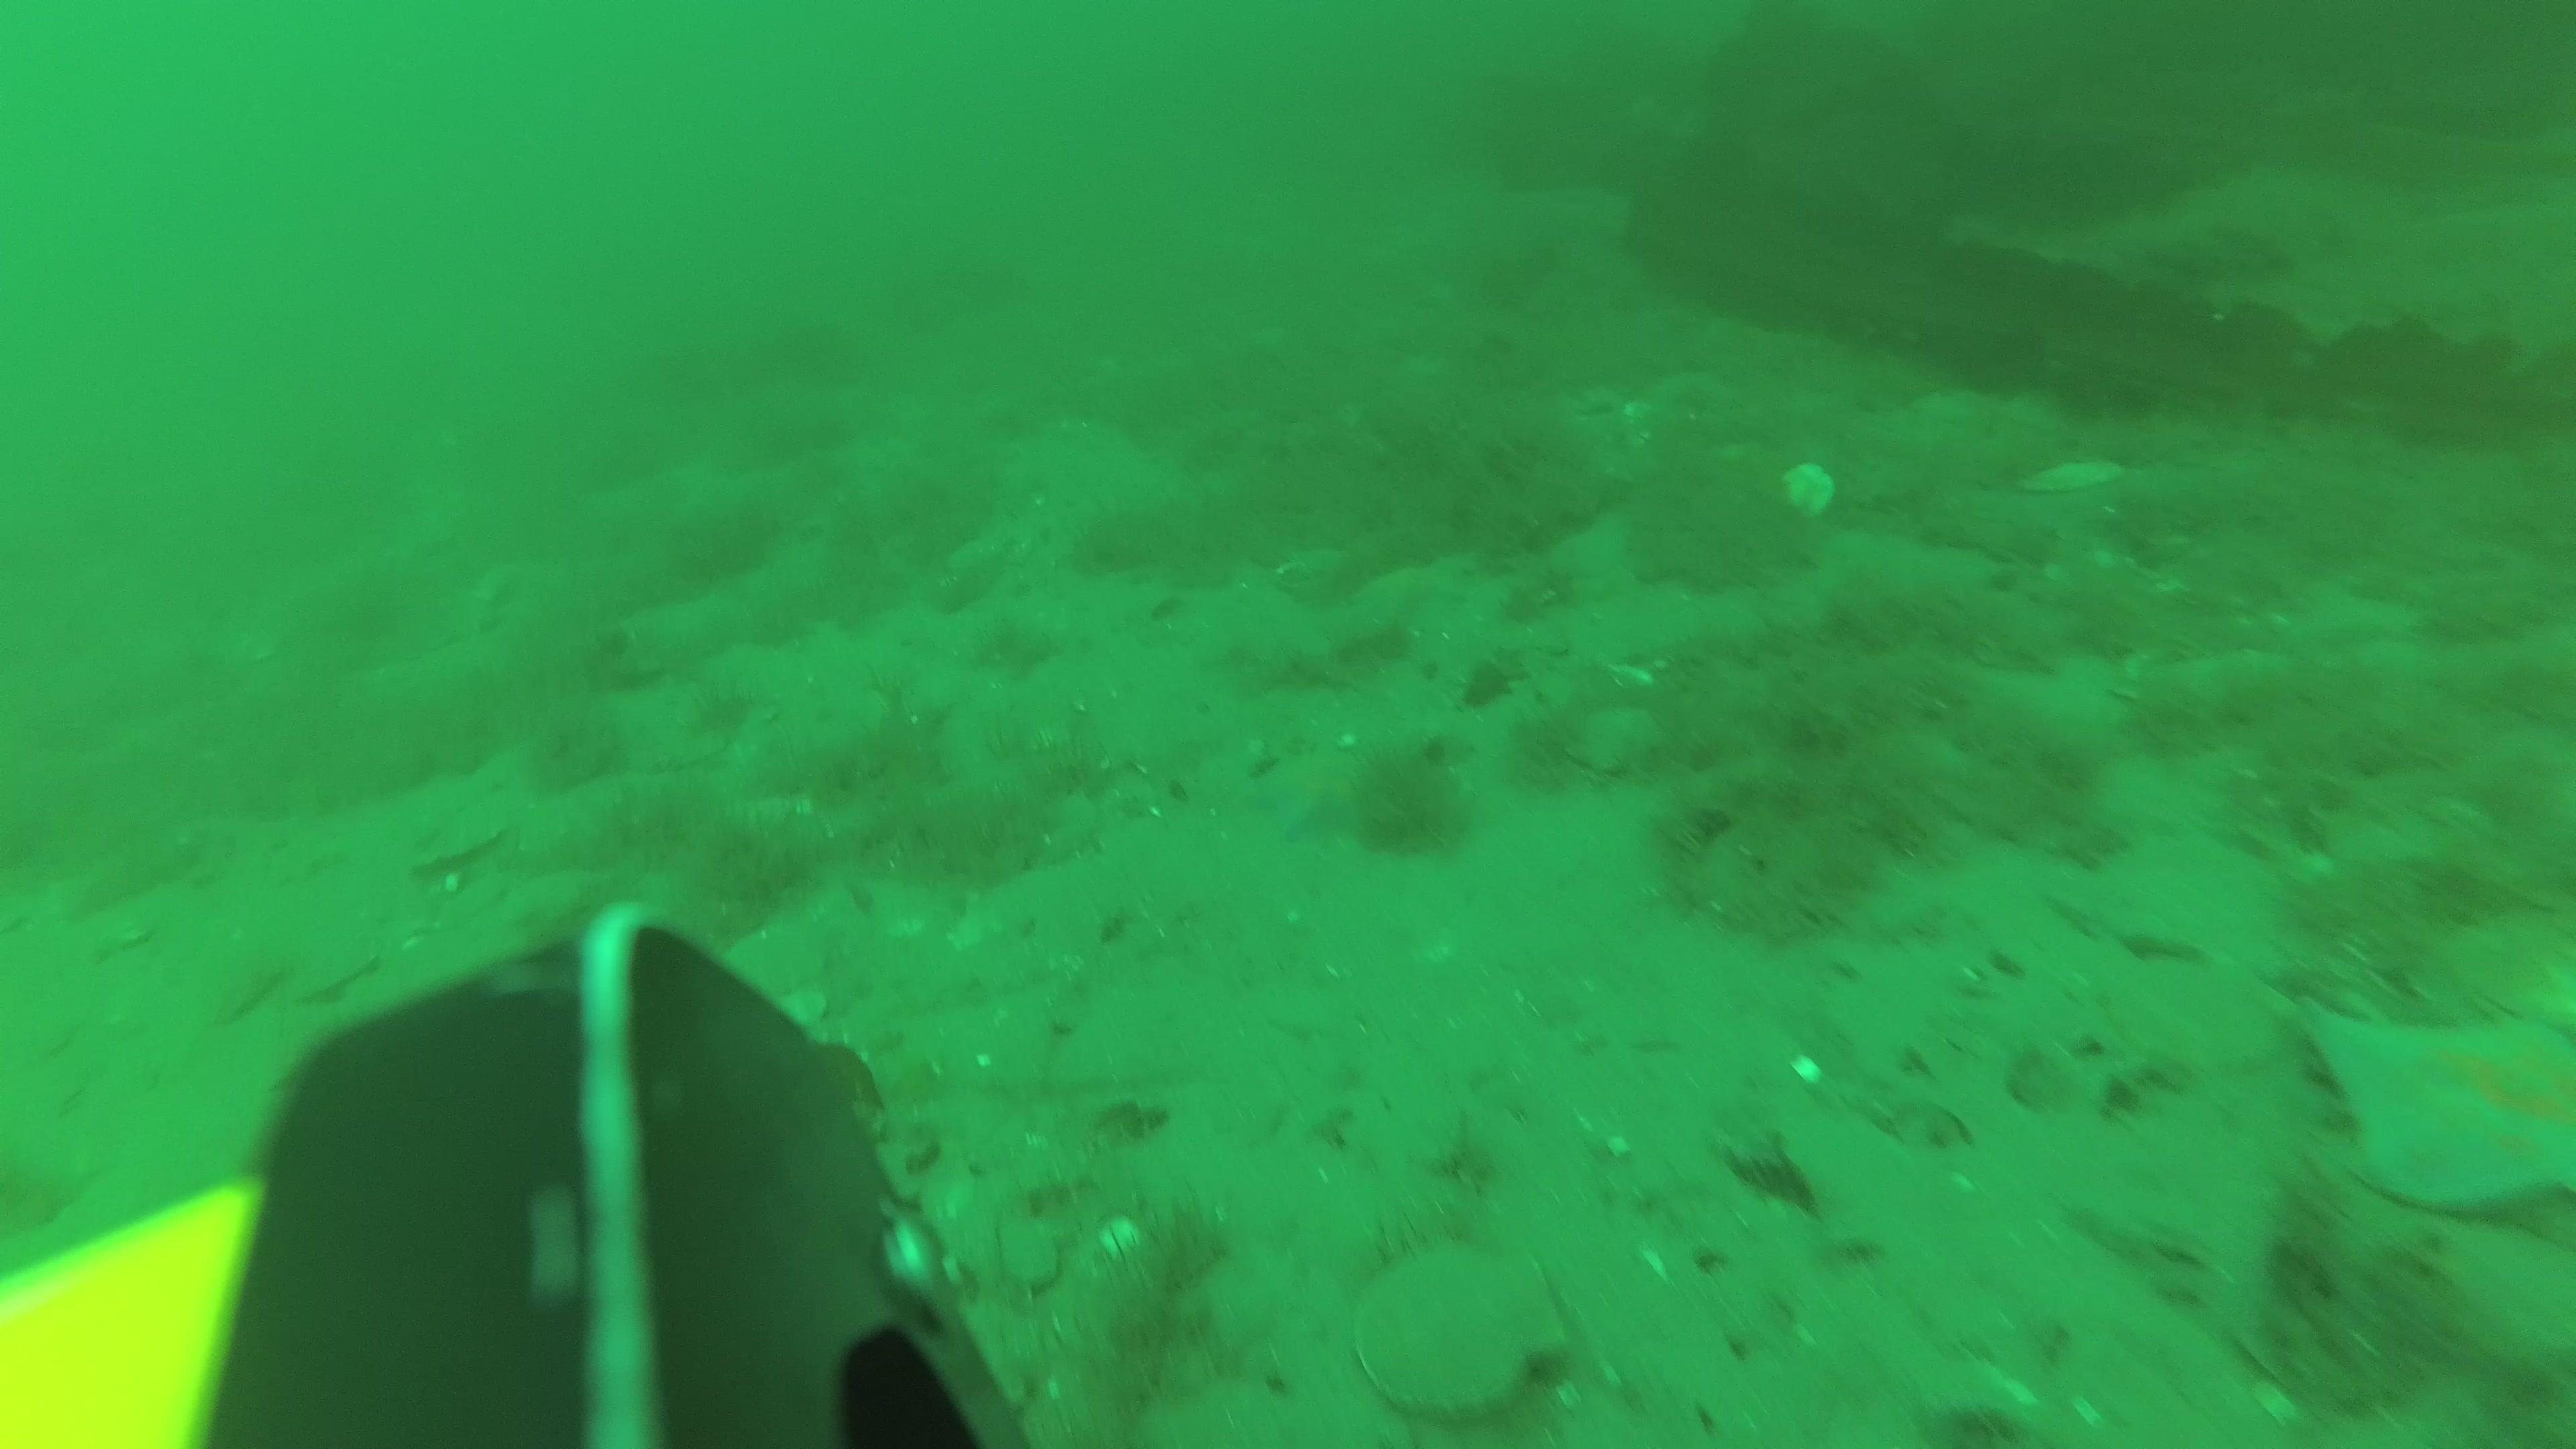scallop: (1343, 1237, 1564, 1414), (1562, 704, 1661, 771), (2013, 453, 2125, 497), (1782, 460, 1831, 525)
starfish: (2300, 991, 2576, 1221), (1253, 741, 1368, 835)
